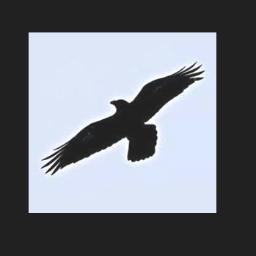Crow: (40, 61, 205, 176)
